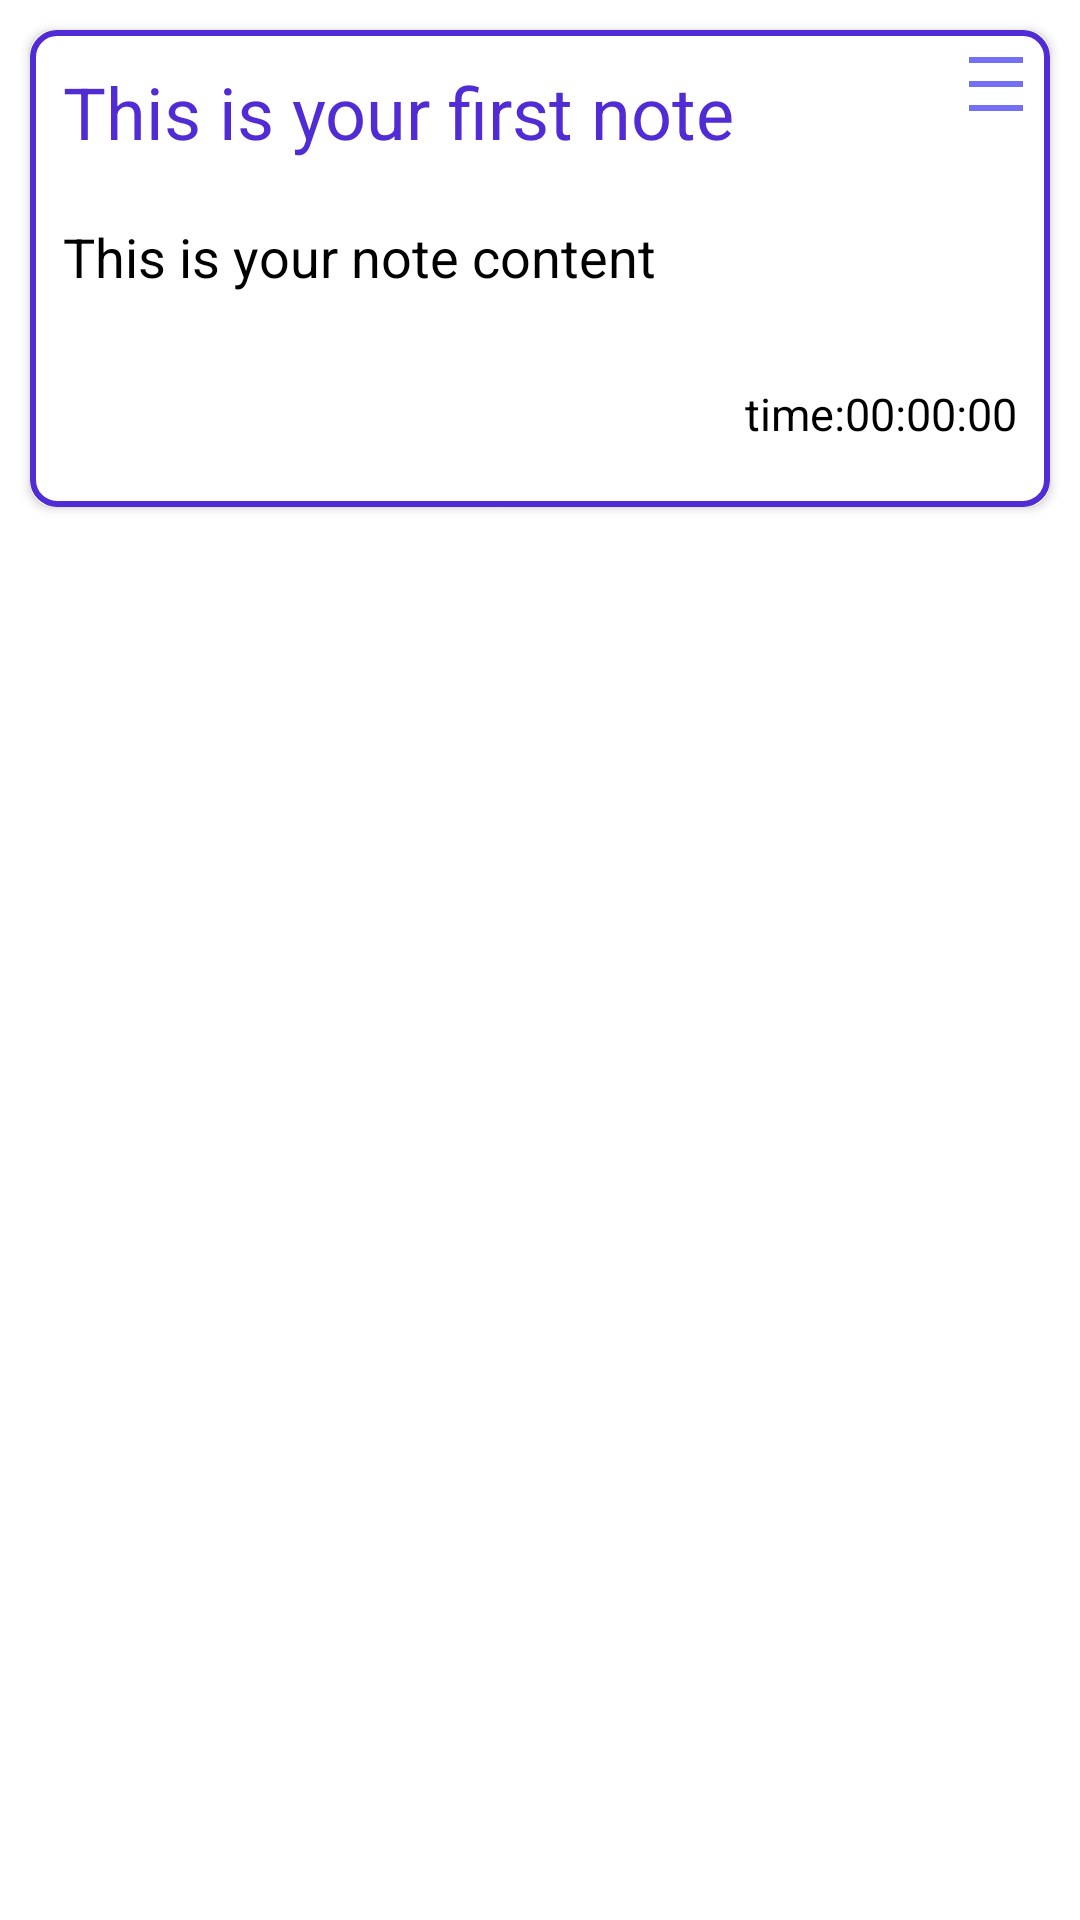

Screen size 1080px x 1920px. Icon name, then its center in pixels as (x=x, y=y):
density medium: (x=996, y=84)
